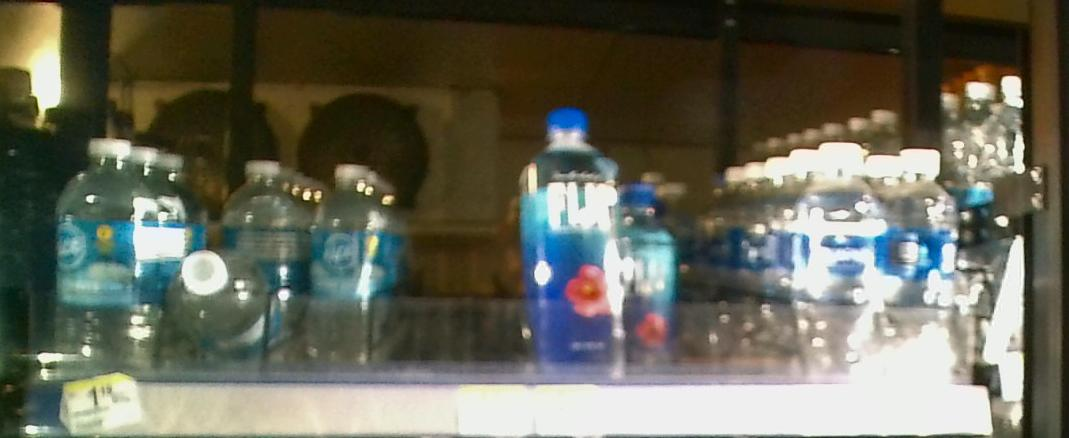bottle: (522, 107, 617, 379), (52, 139, 149, 379), (791, 139, 883, 385), (890, 147, 961, 383), (308, 161, 377, 369), (620, 180, 683, 375), (165, 245, 265, 350)
